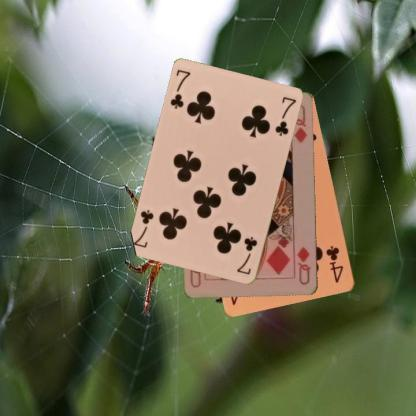4c: (323, 243, 345, 285)
7c: (168, 67, 192, 111), (234, 234, 259, 276)
Qd: (294, 244, 312, 286)
